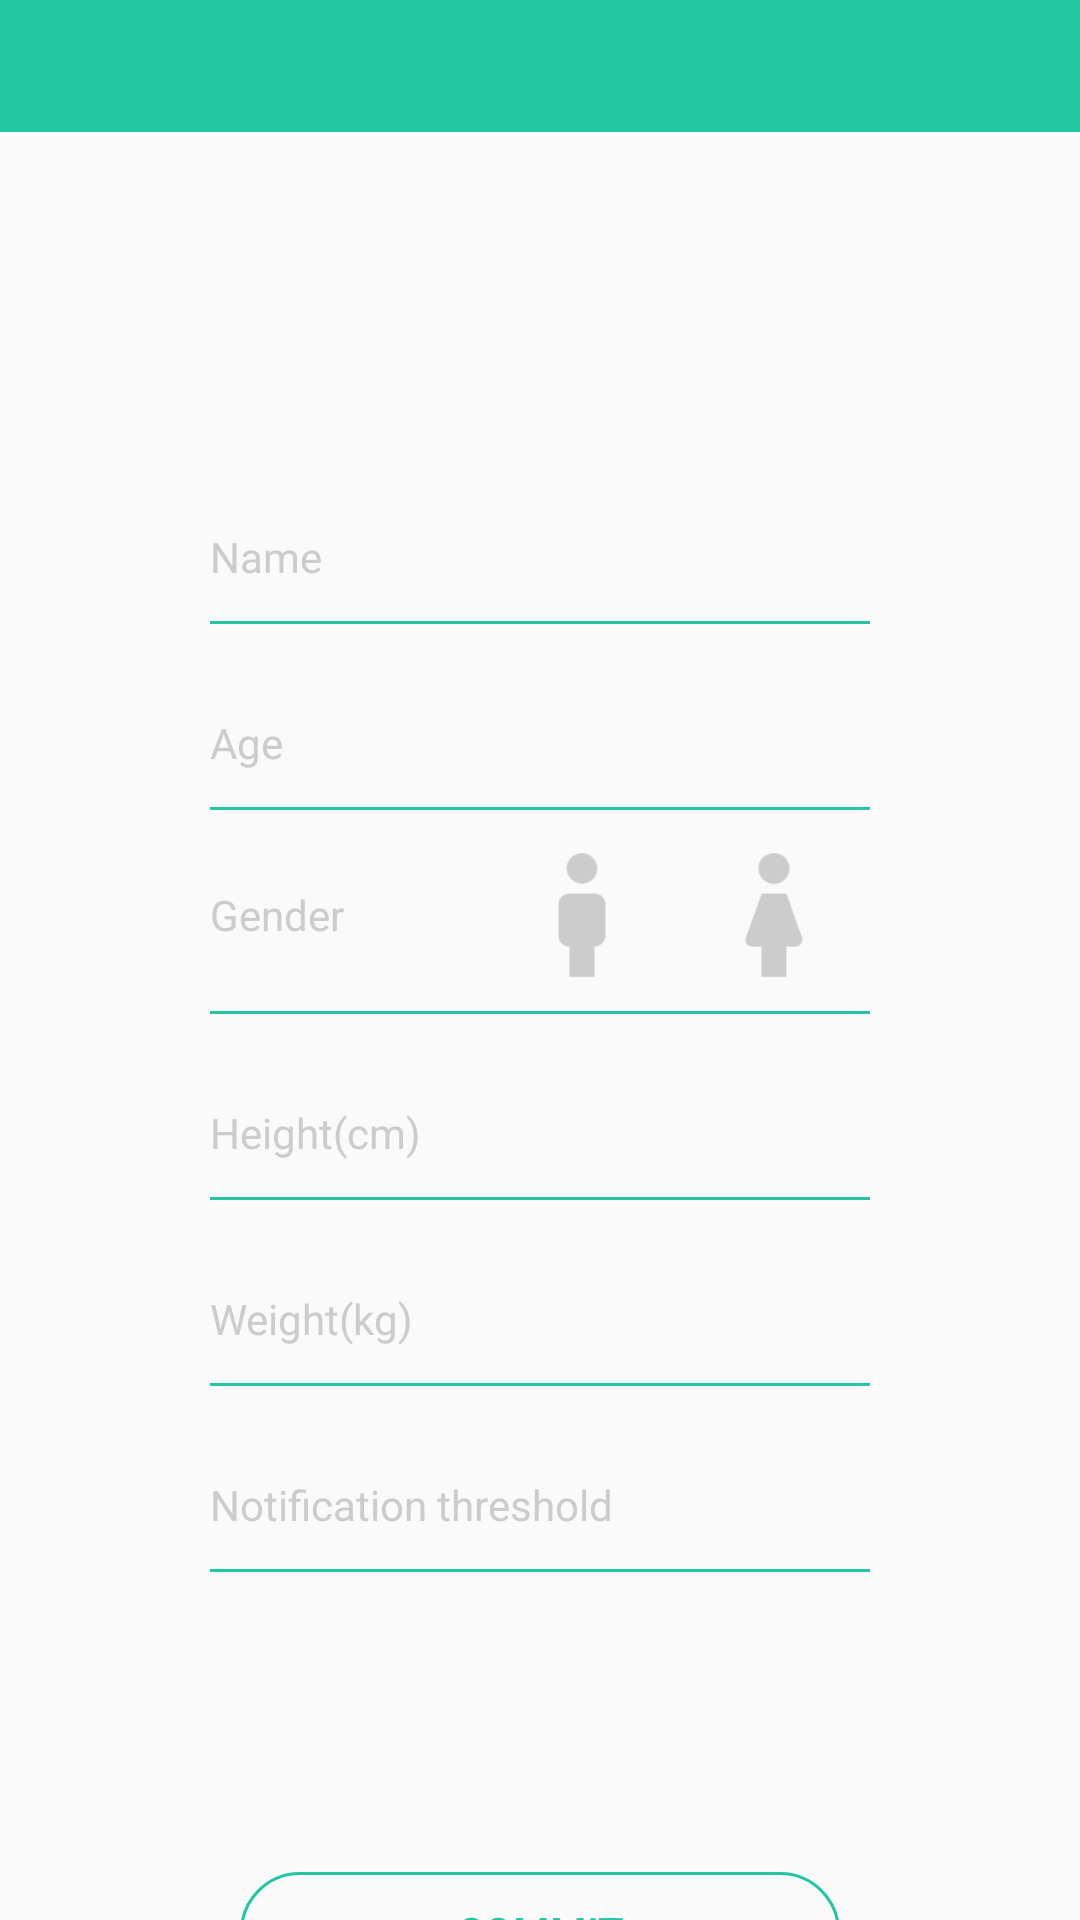

Named icons in this screenshot (1080 × 1920) and their centers, [x,y]:
man: [582,915]
woman: [774,915]
